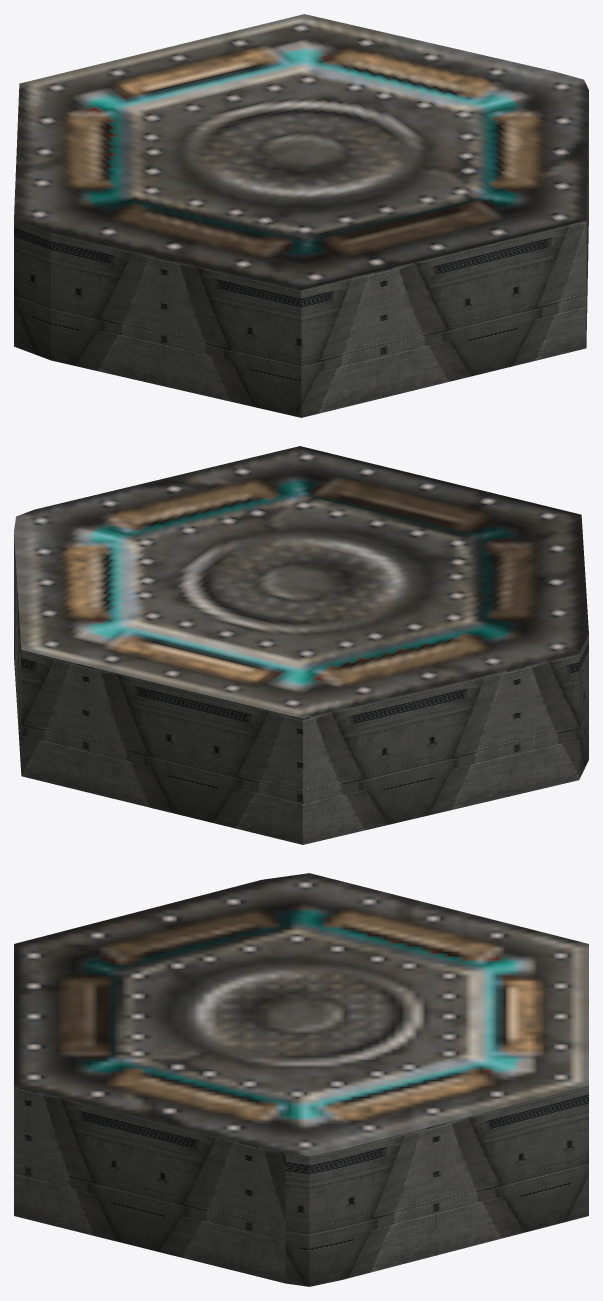
The model's file is gun_emplacement_heavy_a_01_cyn.glb.
3 views of the same model, one above another, from view 1: azimuth 30°, elevation 25°; view 2: azimuth 150°, elevation 25°; view 3: azimuth 270°, elevation 25° (orthographic). The views are drawn at different scales.
Parts seen in each view (by area): view 1: buildings/saxarba/gun_emplacement/gun_emplacement_heavy_a_01; view 2: buildings/saxarba/gun_emplacement/gun_emplacement_heavy_a_01; view 3: buildings/saxarba/gun_emplacement/gun_emplacement_heavy_a_01.
Part boxes in pixels (left/top/right/bottom): buildings/saxarba/gun_emplacement/gun_emplacement_heavy_a_01: left=14, top=14, right=588, bottom=417; buildings/saxarba/gun_emplacement/gun_emplacement_heavy_a_01: left=14, top=446, right=588, bottom=844; buildings/saxarba/gun_emplacement/gun_emplacement_heavy_a_01: left=14, top=873, right=588, bottom=1286.
Bounding box in the file's own units: 84 × 18 × 72.
